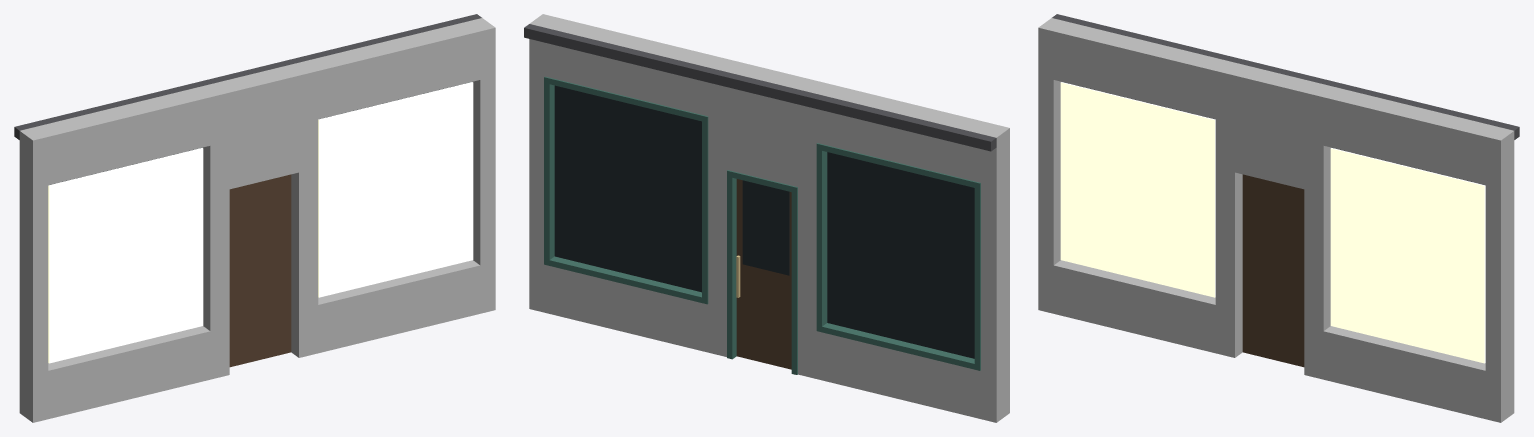
The model's file is storefront.glb.
The picture shows the model from 3 angles, left to right: view 1: azimuth 30°, elevation 25°; view 2: azimuth 150°, elevation 25°; view 3: azimuth 330°, elevation 25°; orthographic projection.
Visible parts, largest first — view 1: storefront; view 2: storefront; view 3: storefront.
Part boxes in pixels (x1=…): storefront: x1=14, y1=14, x2=495, y2=422; storefront: x1=524, y1=14, x2=1009, y2=422; storefront: x1=1038, y1=14, x2=1519, y2=422.
Bounding box in the file's own units: 6 × 3.5 × 0.42.
